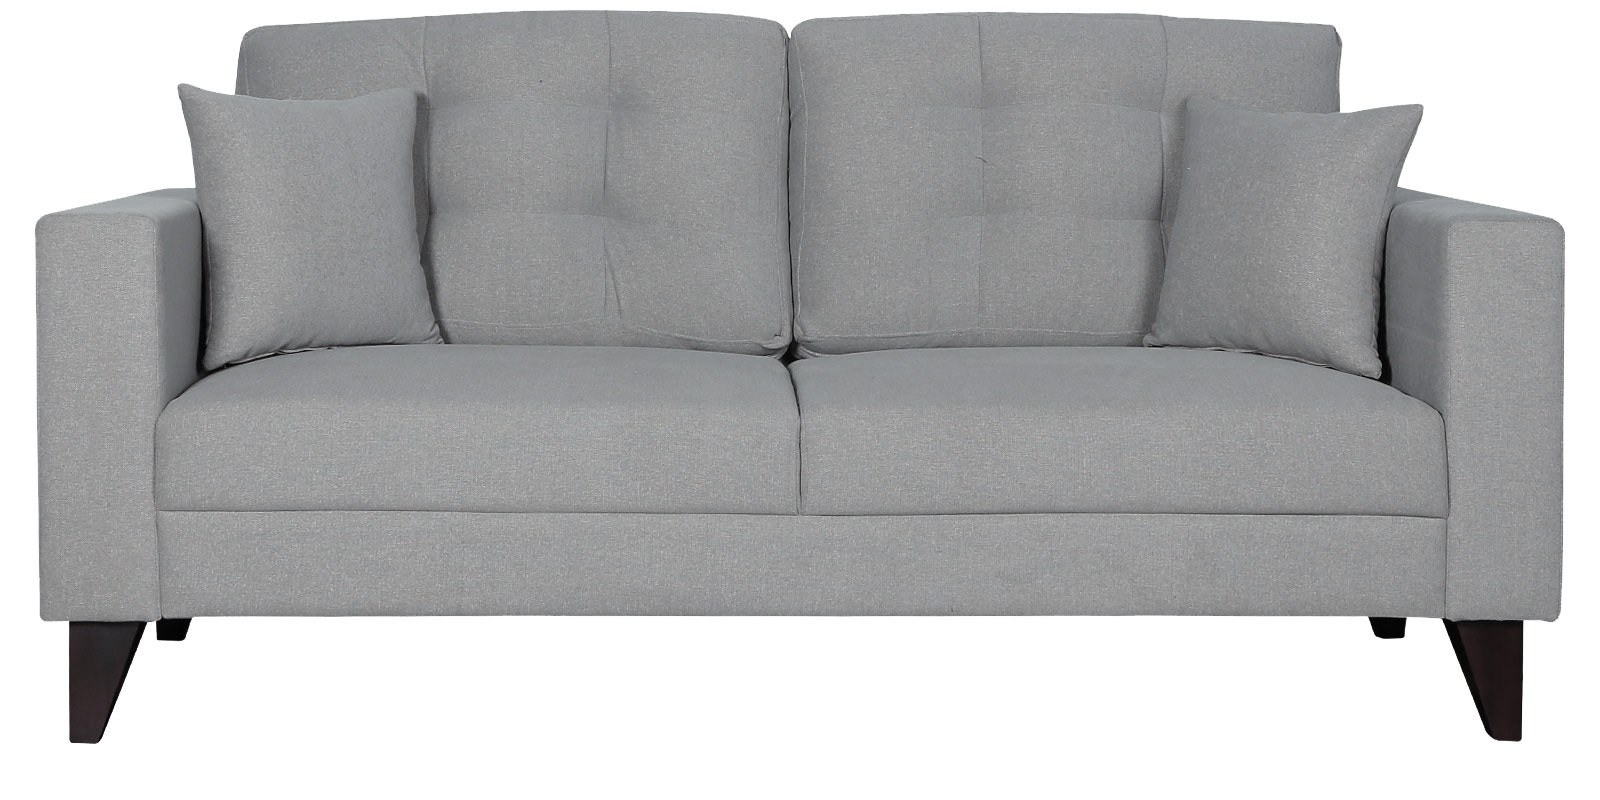Alfredo Three Seater Sofa in Ash Grey Colour by CasaCraft: (33, 1, 1573, 743)
